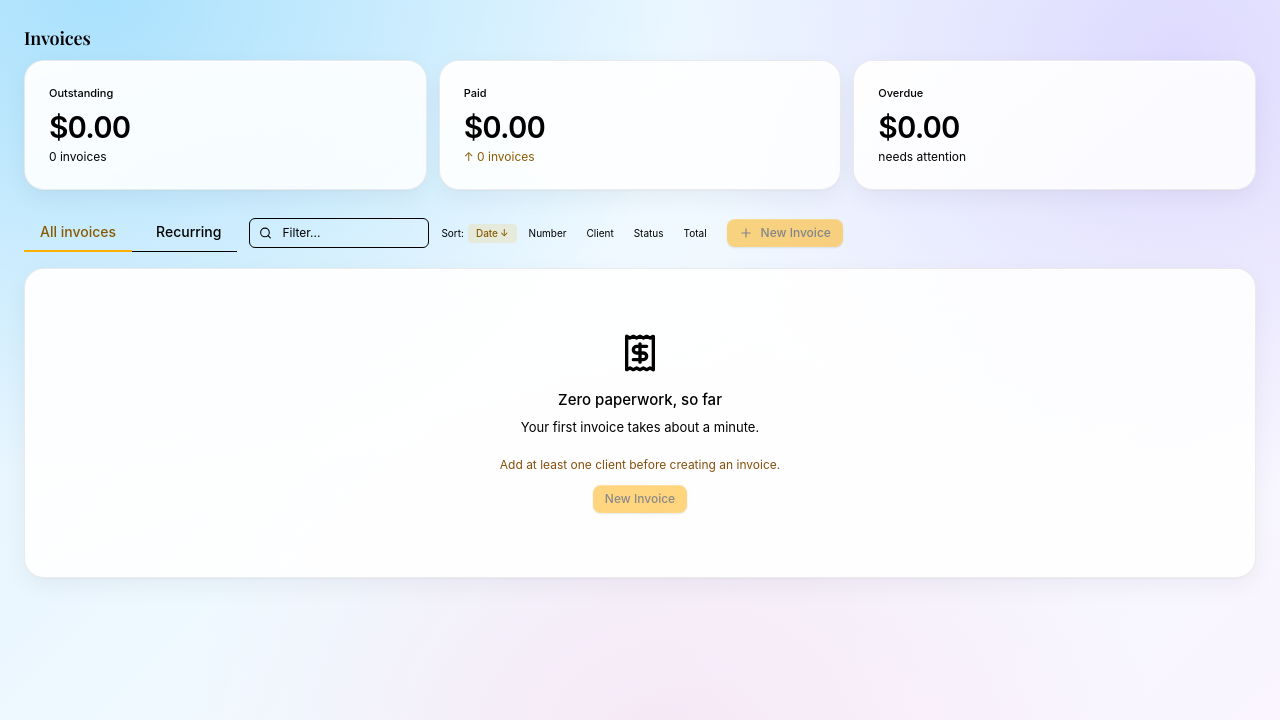
Invoices tabs survive the split › recurring tab explains itself when empty
The image size is (1280, 720).
Expected: the button "All invoices" is shown, [24, 214, 132, 252]
Click the button "Recurring" at (189, 233), box [140, 214, 238, 252]
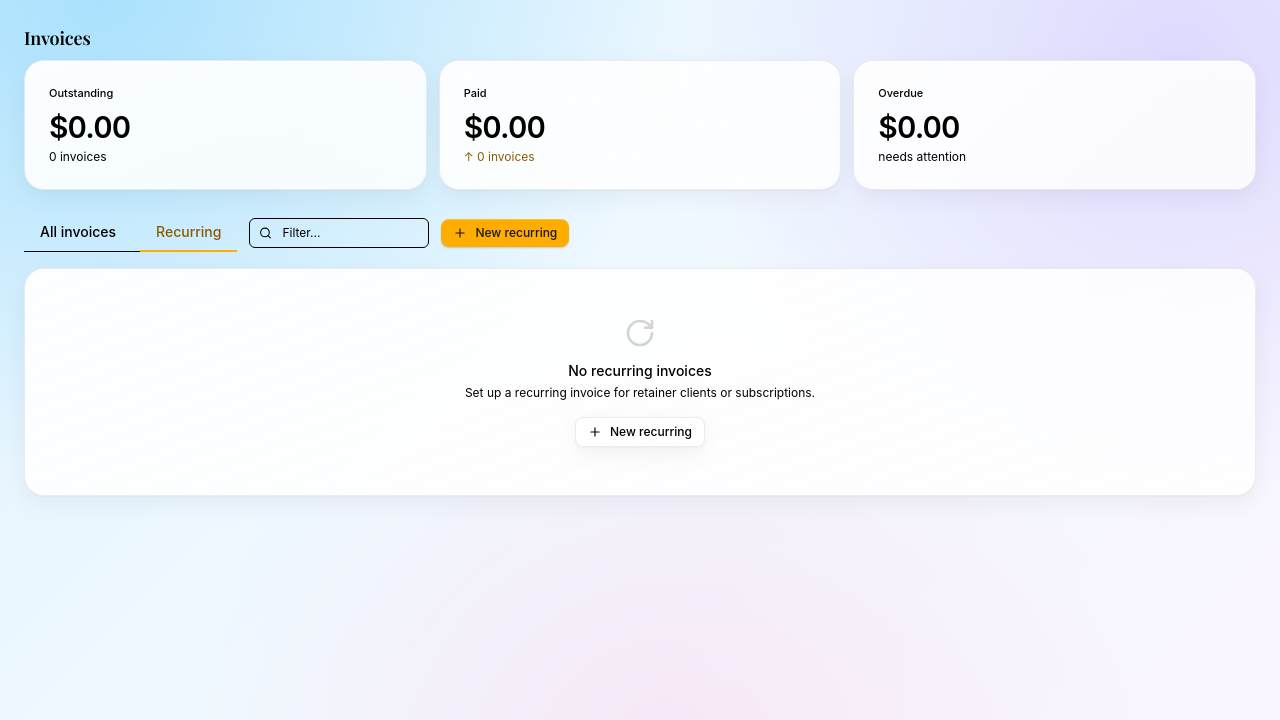
Expected: the heading "No recurring invoices" is shown, [568, 362, 712, 379]
